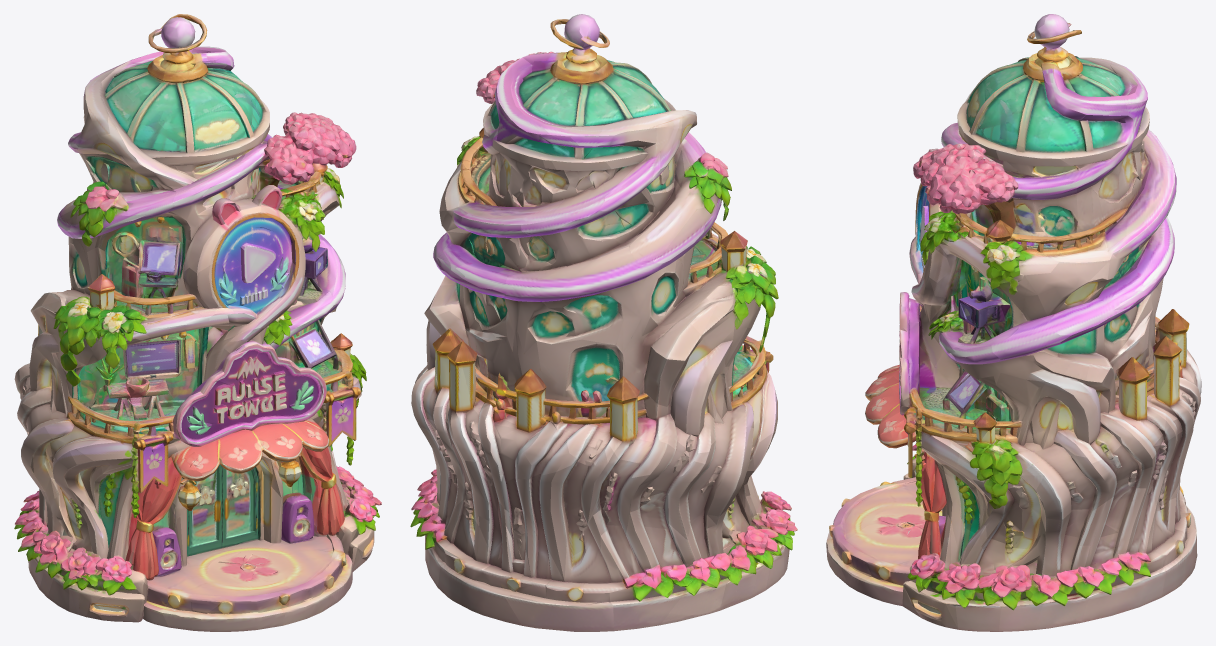
Rendered from city-pulse.glb.
3 renders of one model, left to right at view 1: azimuth 30°, elevation 25°; view 2: azimuth 150°, elevation 25°; view 3: azimuth 270°, elevation 25°, orthographic. The views are drawn at different scales.
Bounding box in the file's own units: 1.22 × 1.9 × 1.2.
Materials: 1 (1 with a texture image).
